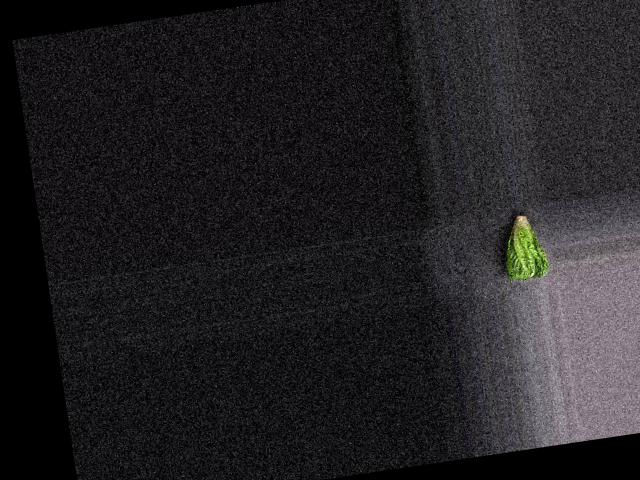lettuce: (496, 207, 552, 283)
